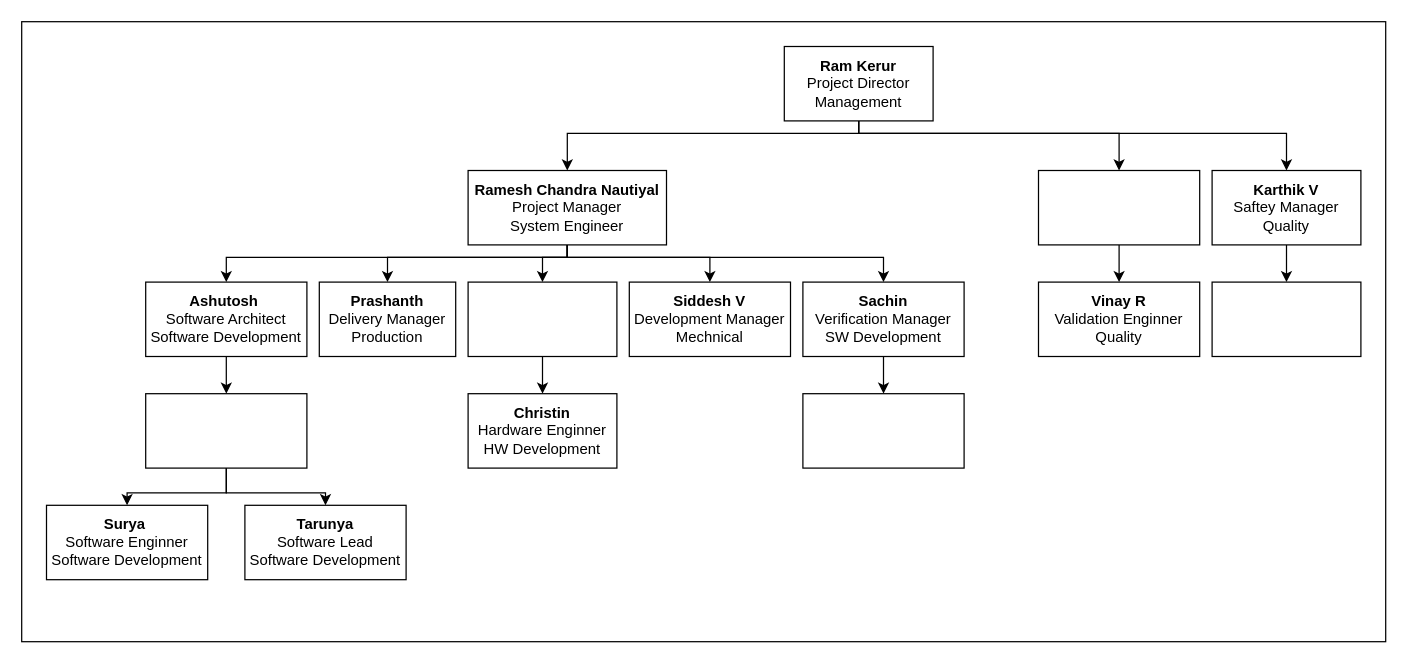
This 1407x663 diagram has some shape labels left out. Here are the shapes that lost their labels. From the top down, the centre of each, then its label:
At point (1118, 207): "Kavishankar Giri Validation Manager Quality".
At point (542, 318): "Rupak Hardware Manager HW Development".
At point (1286, 318): "Ravi S Saftey Manager Quality".
At point (225, 430): "Rinie J System Manager Development".
At point (883, 430): "Sidhart Verification Enginner Mechnical".
